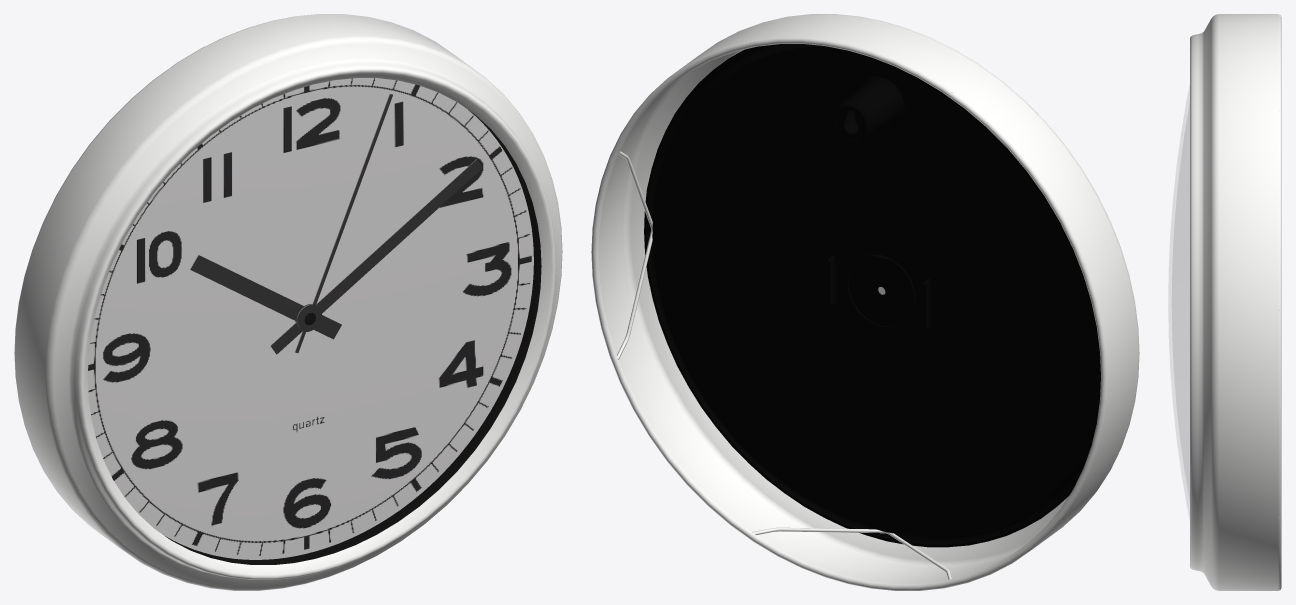
File: pugg_zegar_scienny_90540853.glb
3 renders of one model, left to right at view 1: azimuth 30°, elevation 25°; view 2: azimuth 150°, elevation 25°; view 3: azimuth 270°, elevation 25°, orthographic. The views are drawn at different scales.
Parts seen in each view (by area): view 1: pugg_zegar_scienny_90540853; view 2: pugg_zegar_scienny_90540853; view 3: pugg_zegar_scienny_90540853.
Part boxes in pixels (x1,y1,x2,y2): pugg_zegar_scienny_90540853: [14, 14, 562, 590]; pugg_zegar_scienny_90540853: [591, 14, 1139, 590]; pugg_zegar_scienny_90540853: [1171, 14, 1281, 590].
Bounding box in the file's own units: 0.314 × 0.314 × 0.0618.
9 materials, 1 textured.
